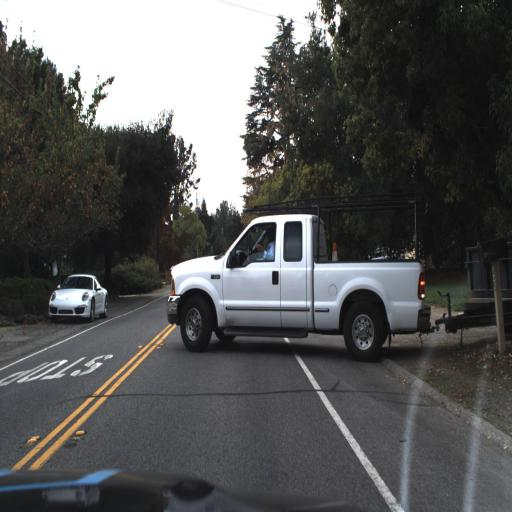car: (44, 265, 107, 324)
truck: (148, 174, 511, 389)
